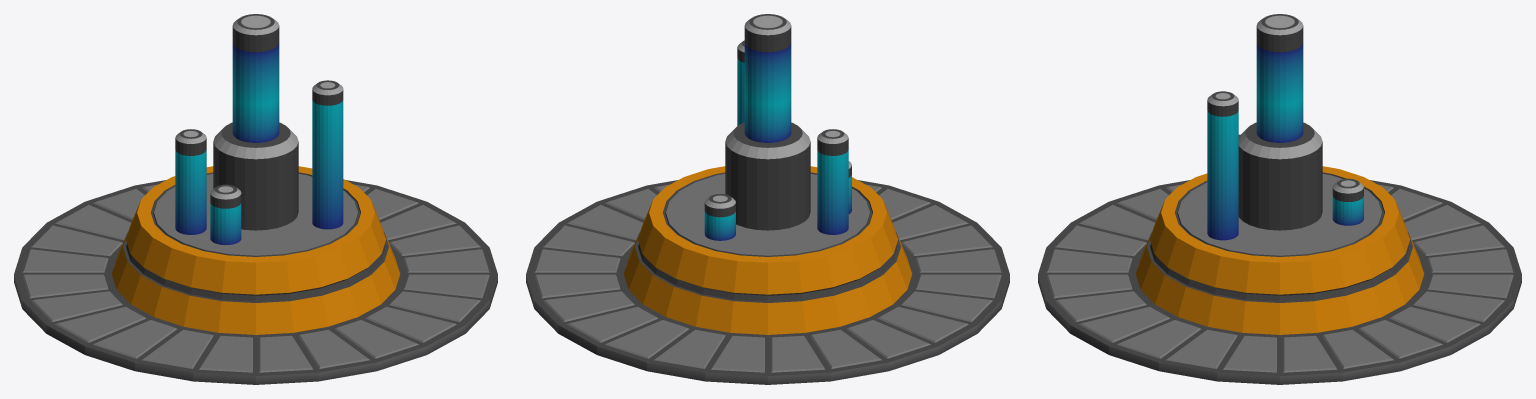
File: SpaceShipGenerator00.fbx
3 views of the same model, side by side, from view 1: azimuth 30°, elevation 25°; view 2: azimuth 150°, elevation 25°; view 3: azimuth 270°, elevation 25° (orthographic).
Visible parts, largest first — view 1: SpaceShipGenerator00; view 2: SpaceShipGenerator00; view 3: SpaceShipGenerator00.
Part boxes in pixels (left/top/right/bottom): SpaceShipGenerator00: left=14, top=14, right=497, bottom=384; SpaceShipGenerator00: left=526, top=14, right=1009, bottom=384; SpaceShipGenerator00: left=1038, top=14, right=1521, bottom=384.
Size of the model in its own units: 5 by 2.97 by 5.
